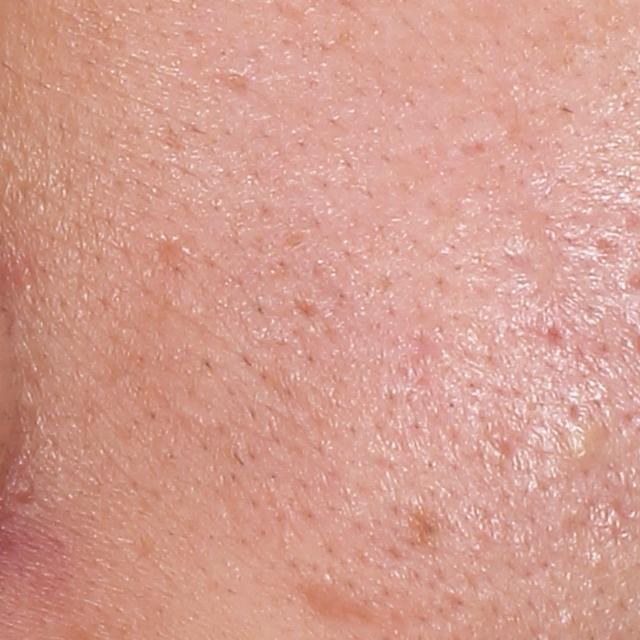atrophic_scar: (294, 581, 393, 636), (448, 132, 498, 166)
